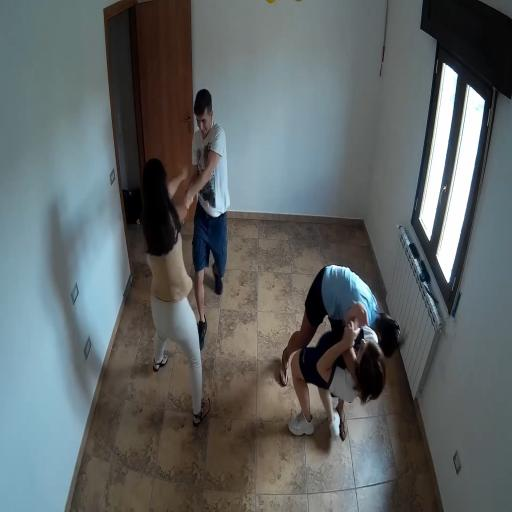violencia: (120, 74, 244, 435), (271, 220, 413, 460)
